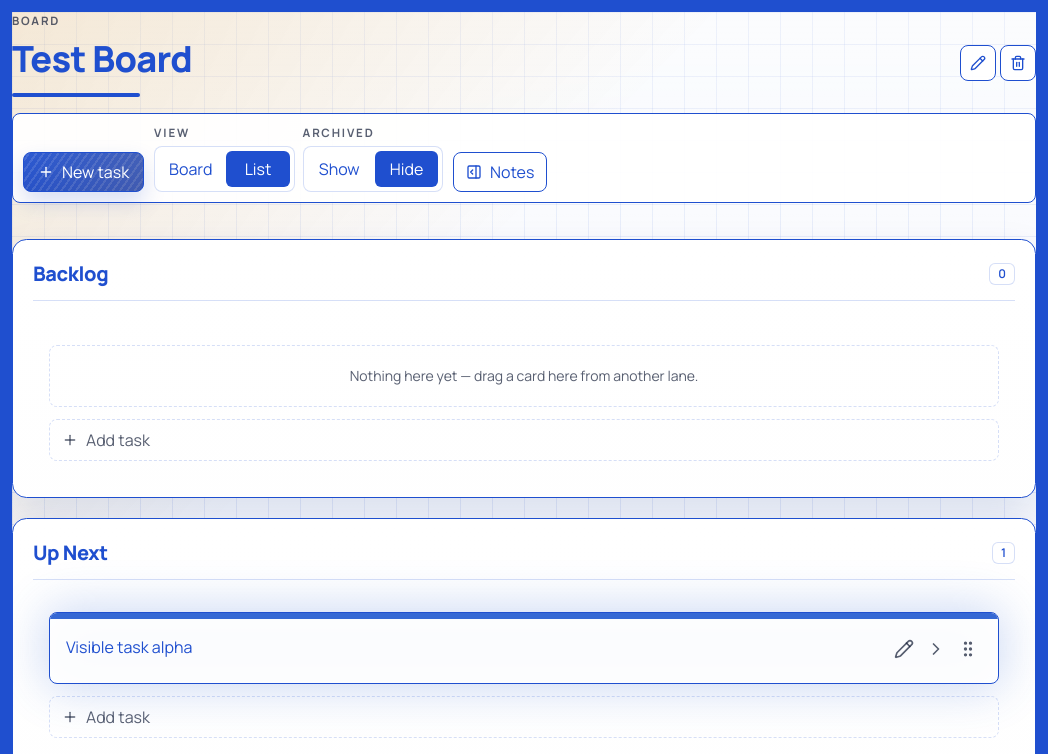
Scenario: BoardWorkspace list-view task row › opens the subtasks panel from the list-row toggle
The image size is (1048, 754).
Click the button named "Open subtasks menu" at (936, 648), box [922,634,950,662]
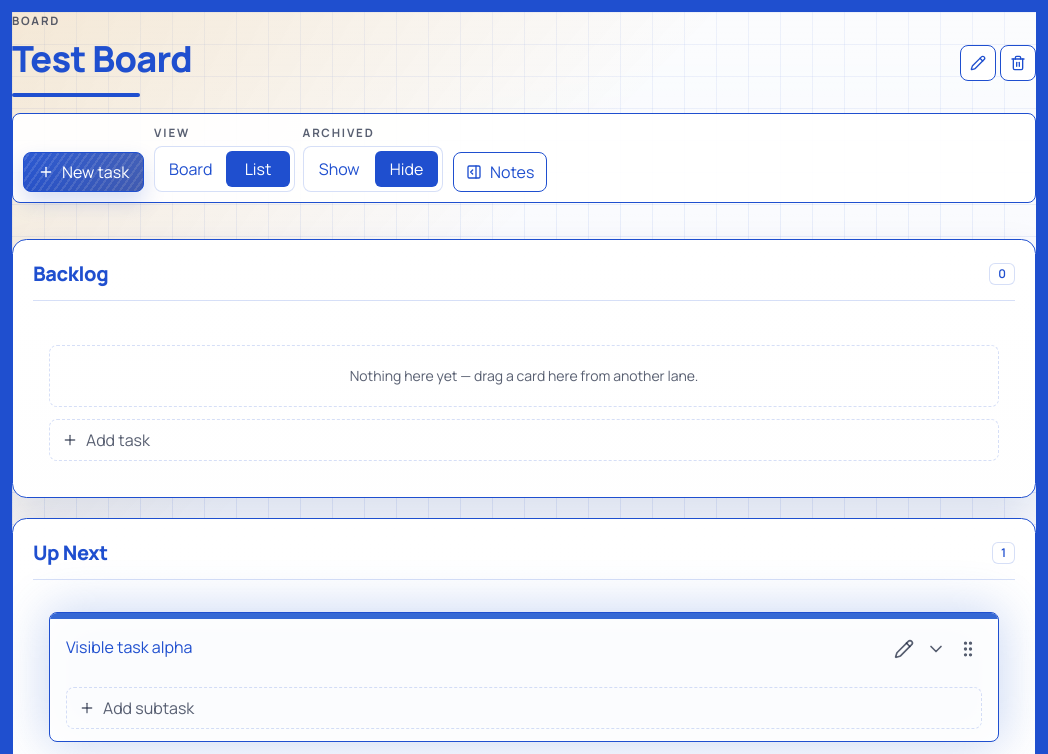
Expected: the button named "Close subtasks menu" is expanded, [922,634,950,662]
Expected: the element named "Subtasks for Visible task alpha" is shown, [50,674,998,740]
